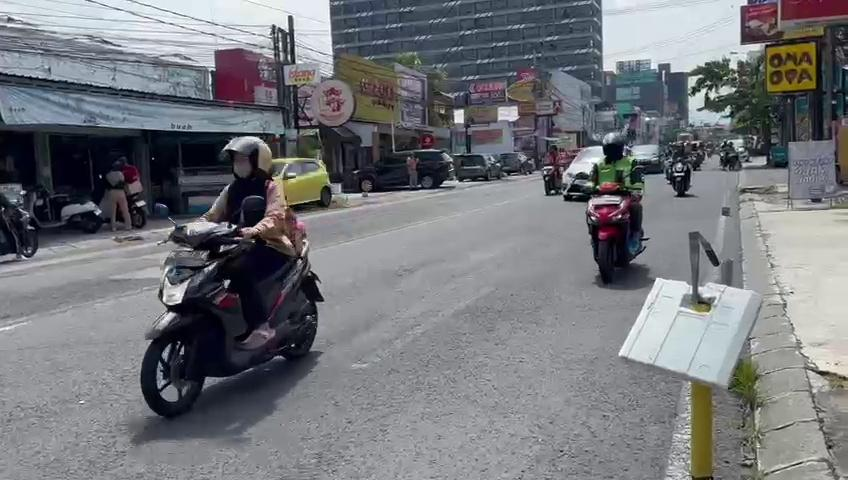helm: (219, 132, 276, 185)
riding: (132, 130, 327, 434)
